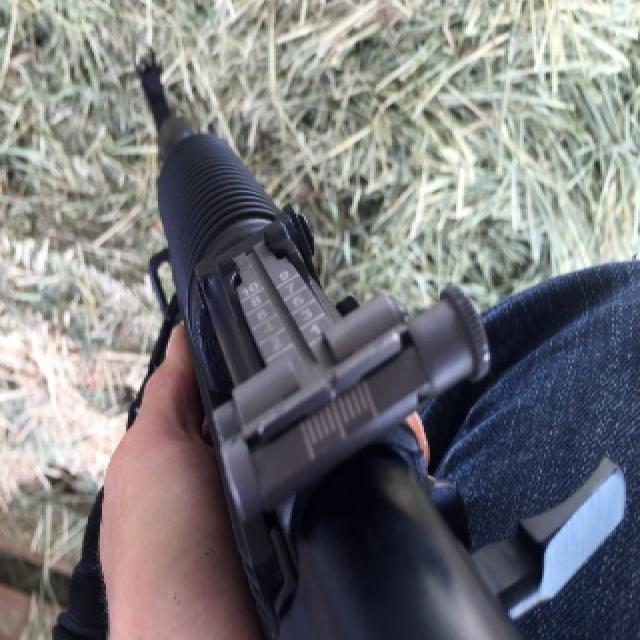rifle: (113, 38, 515, 638)
